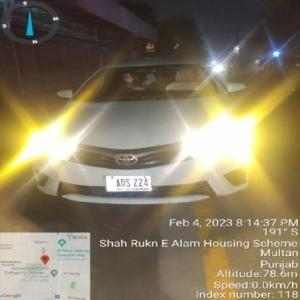Plate: (100, 172, 160, 195)
